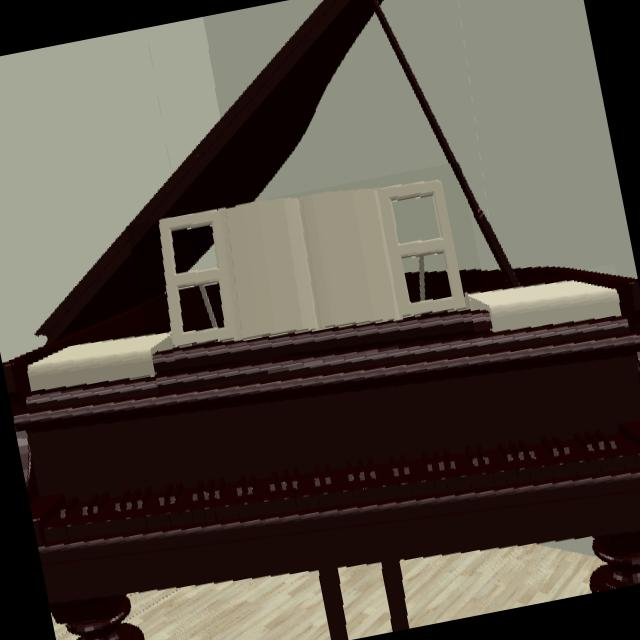book: (153, 181, 492, 369), (469, 280, 624, 334), (30, 333, 171, 392)
